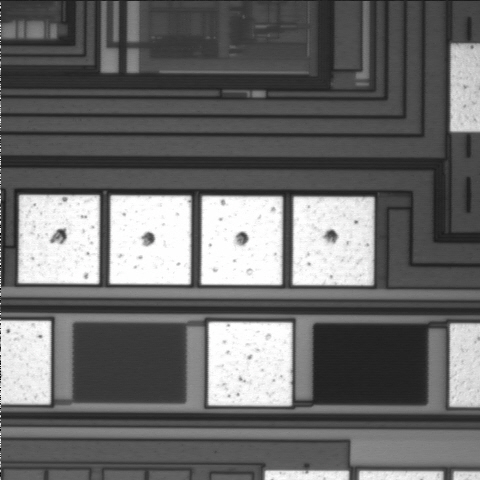pad: (18, 195, 100, 284), (201, 196, 283, 285), (110, 195, 191, 285), (293, 197, 374, 285), (208, 322, 292, 406)
